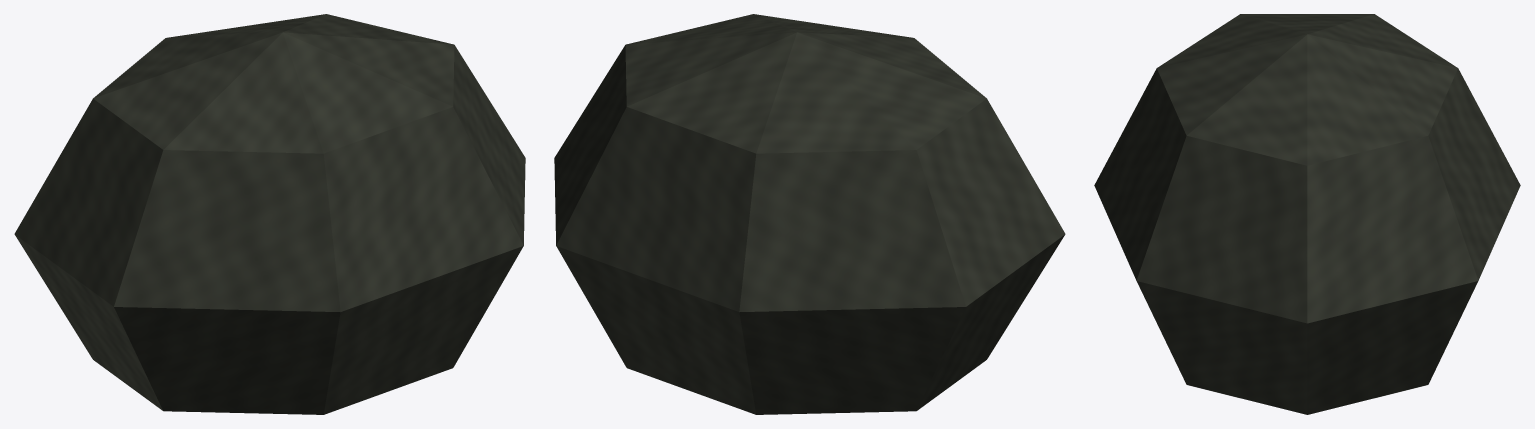
File: nature_rock_00.glb
The picture shows the model from 3 angles, left to right: view 1: azimuth 30°, elevation 25°; view 2: azimuth 150°, elevation 25°; view 3: azimuth 270°, elevation 25°; orthographic projection. The views are drawn at different scales.
Visible parts, largest first — view 1: rock; view 2: rock; view 3: rock.
Boxes of the visible parts, bbox=[...] form: rock: bbox=[14, 14, 525, 414]; rock: bbox=[554, 14, 1065, 414]; rock: bbox=[1094, 14, 1520, 414].
Size of the model in its own units: 1.05 by 0.8 by 0.8774.
1 material, 1 textured.
